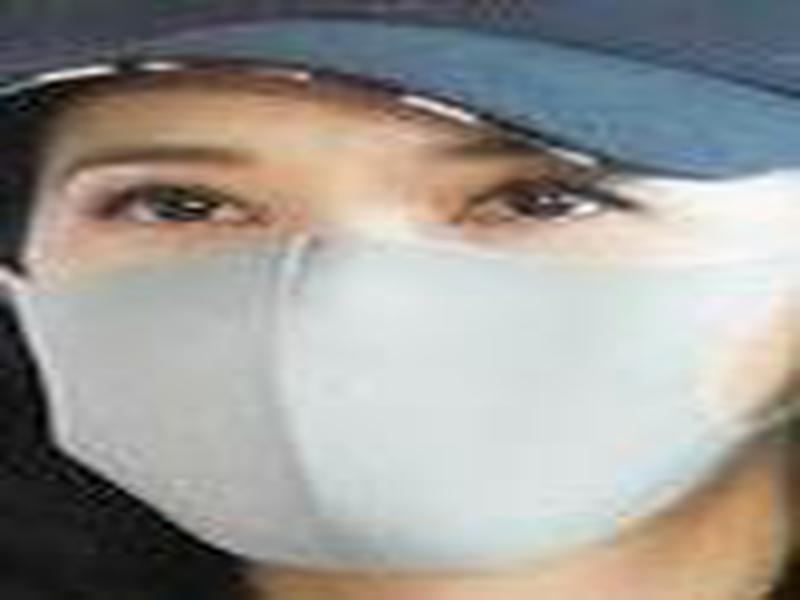with_mask: (1, 87, 799, 573)
